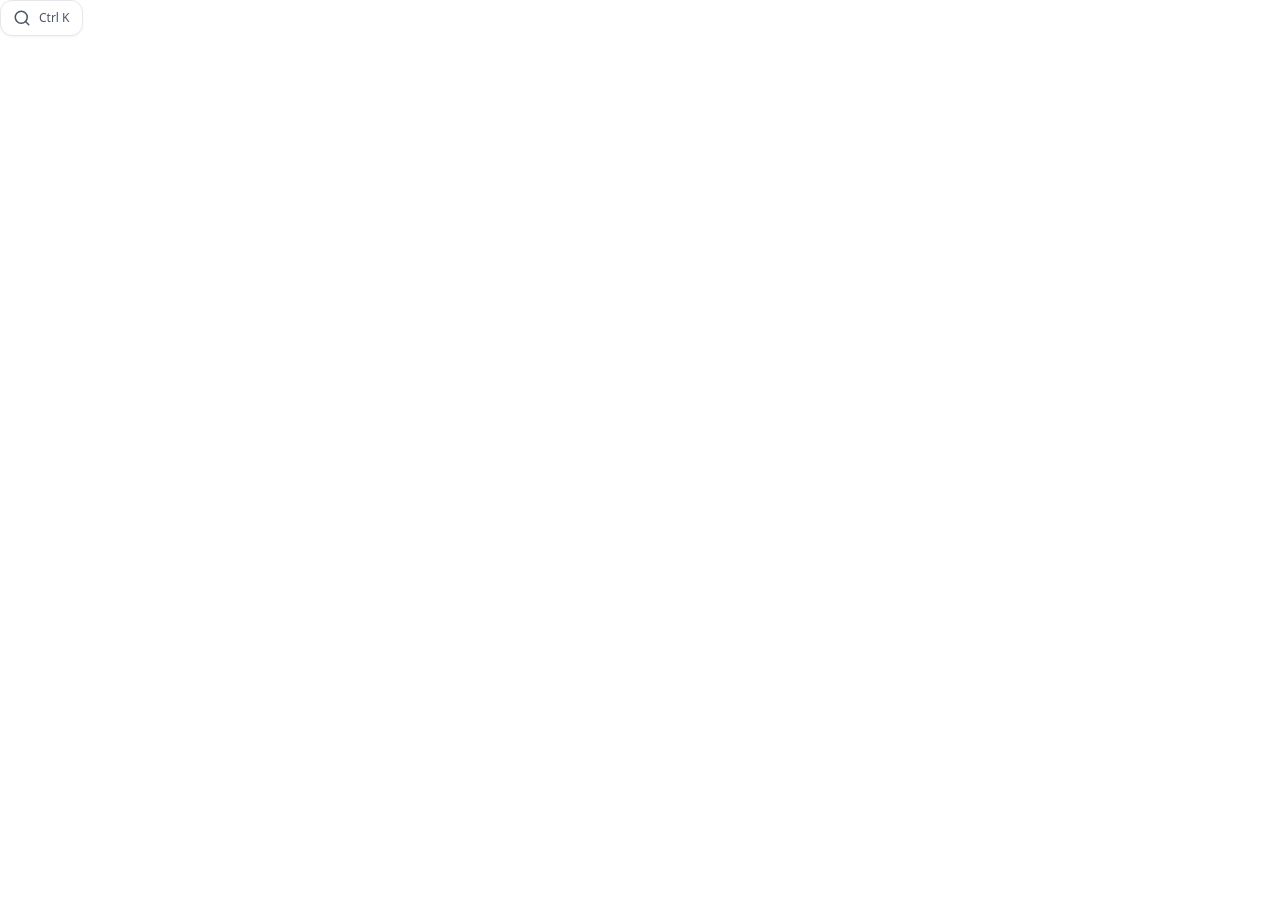
Test case: CommandMenu › the header button opens it
The width and height of the screenshot is (1280, 900).
Click the button named "Open command menu". click: (41, 18)
box: [0,0,82,36]
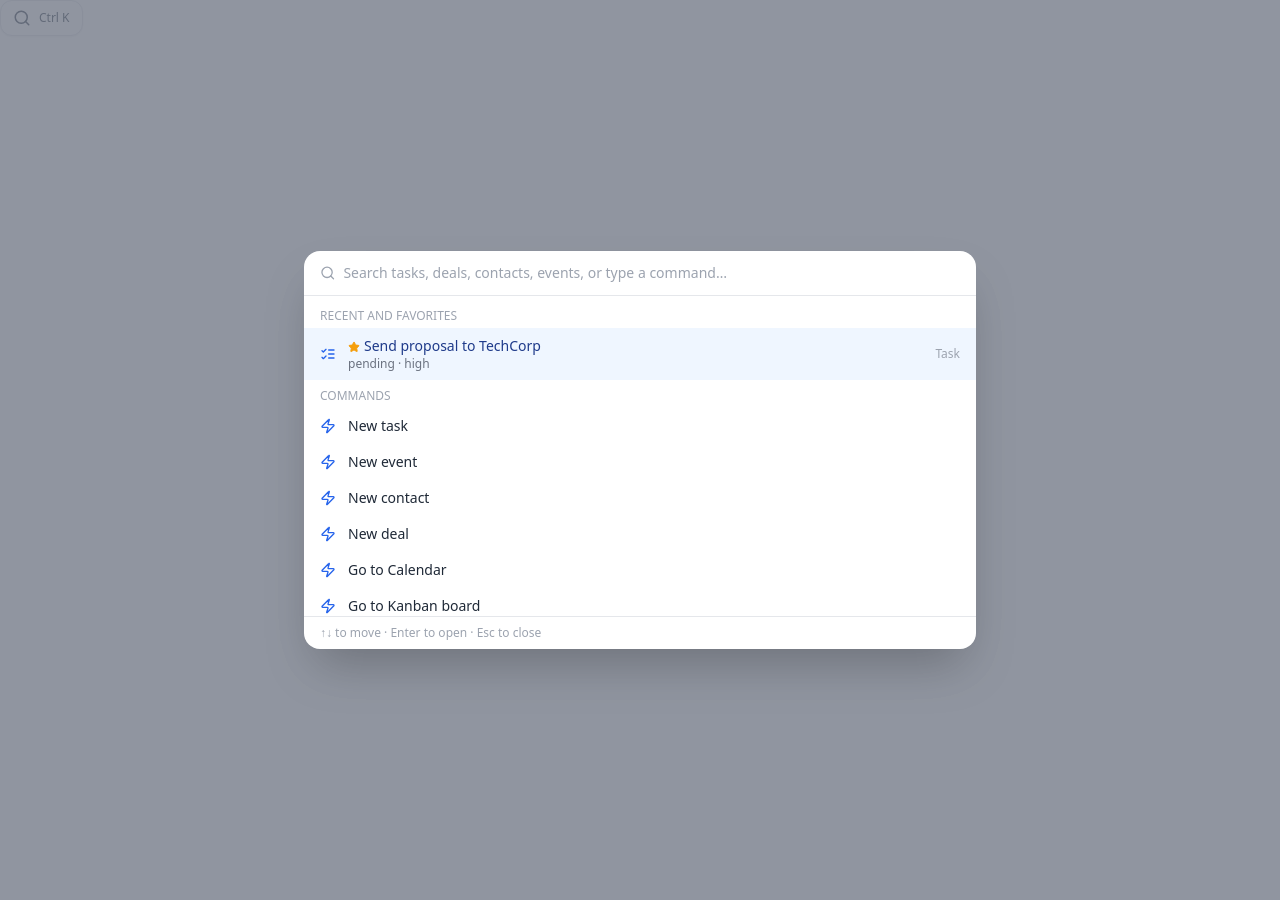
Expected: the dropdown is shown, [343,263,960,283]
